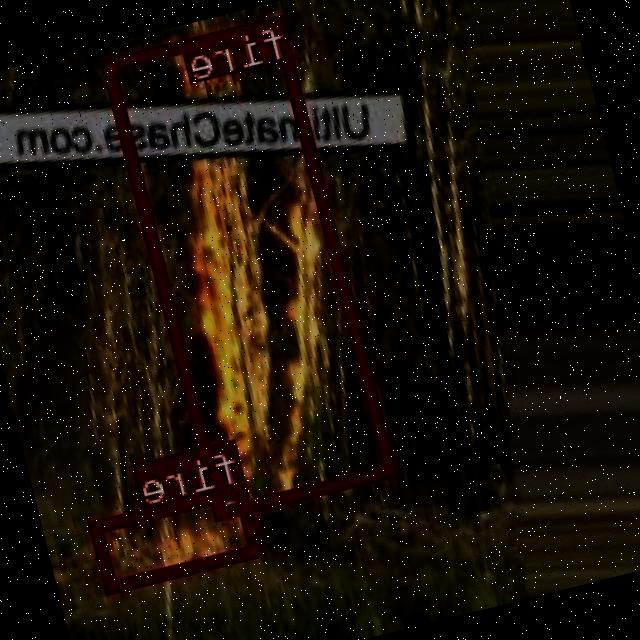fire: (103, 11, 400, 516), (91, 482, 264, 592)
